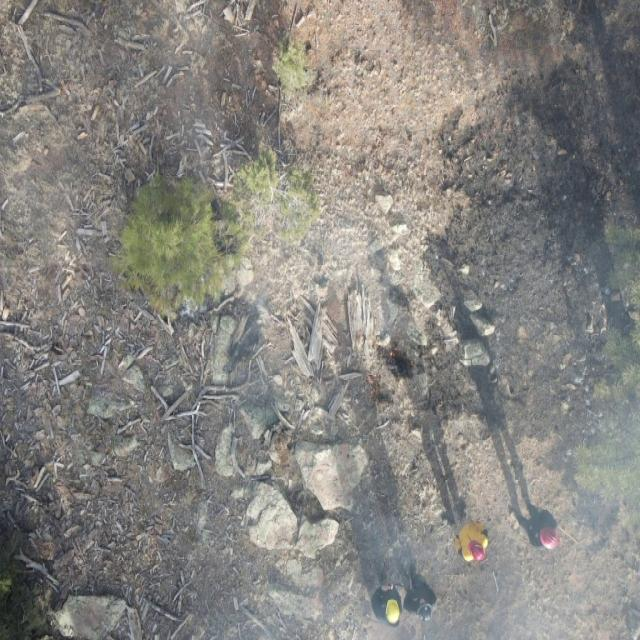fire: (358, 374, 378, 402), (386, 346, 398, 362)
smoke: (283, 281, 640, 640)
